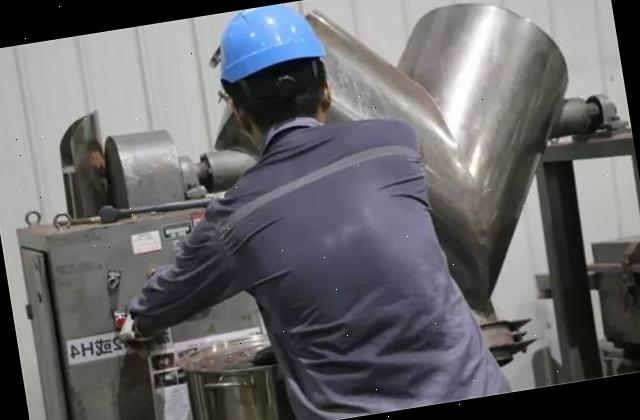helmet: (201, 0, 328, 86)
wear: (241, 116, 469, 420)
